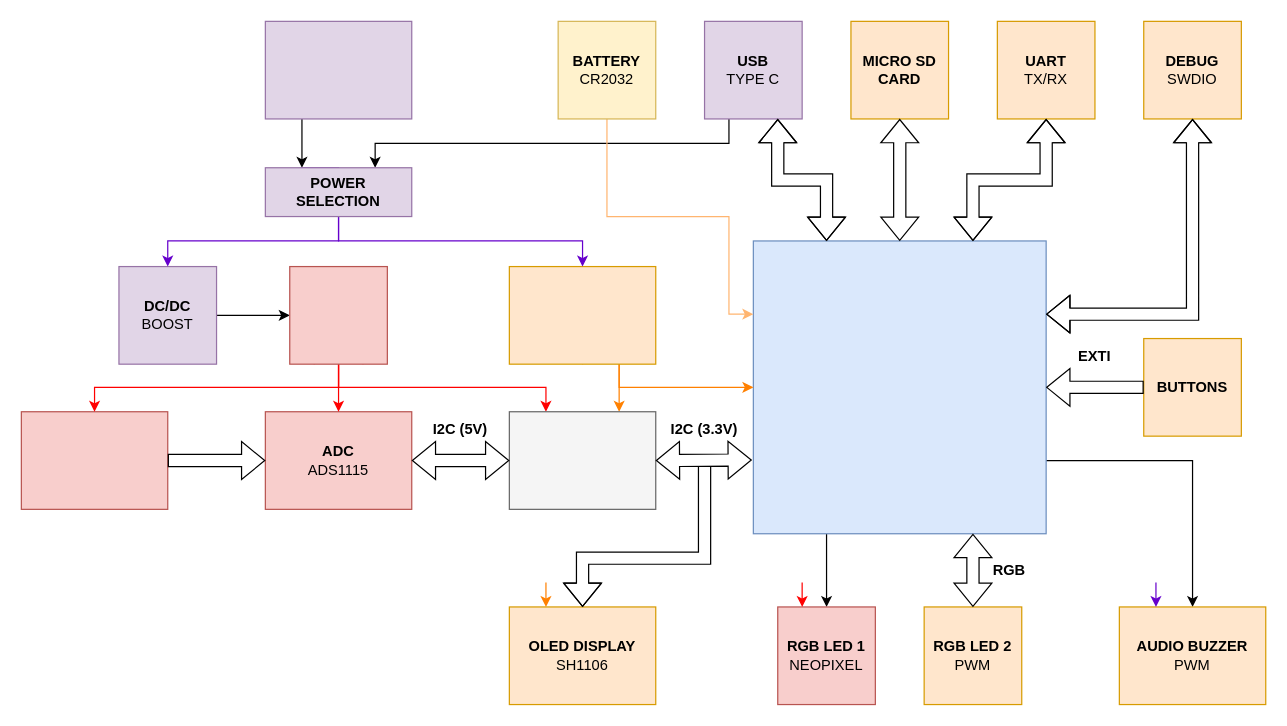
This 1287x726 diagram has some shape labels left out. The centre of each missing label's shape, as x and y in pixels:
"ANTIALIASING FILTER" goes at [94,460].
"DC/DC LDO 3.3V" goes at [582,314].
"DC/DC LDO 5.0V" goes at [338,314].
"EXTERNAL POWER 5V - 9V" goes at [338,69].
"I2C VOLTAGE TRANSLATOR" goes at [582,460].
"MCU STM32F411" goes at [899,387].
